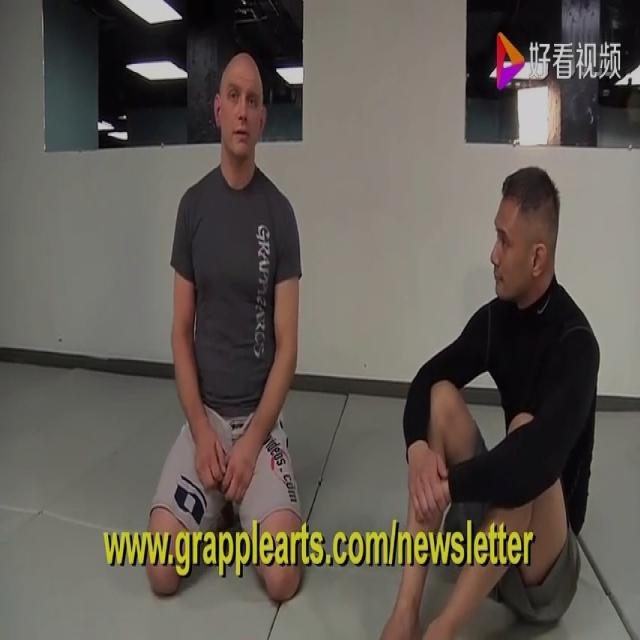non-fight: (377, 161, 606, 640), (140, 48, 304, 623)
